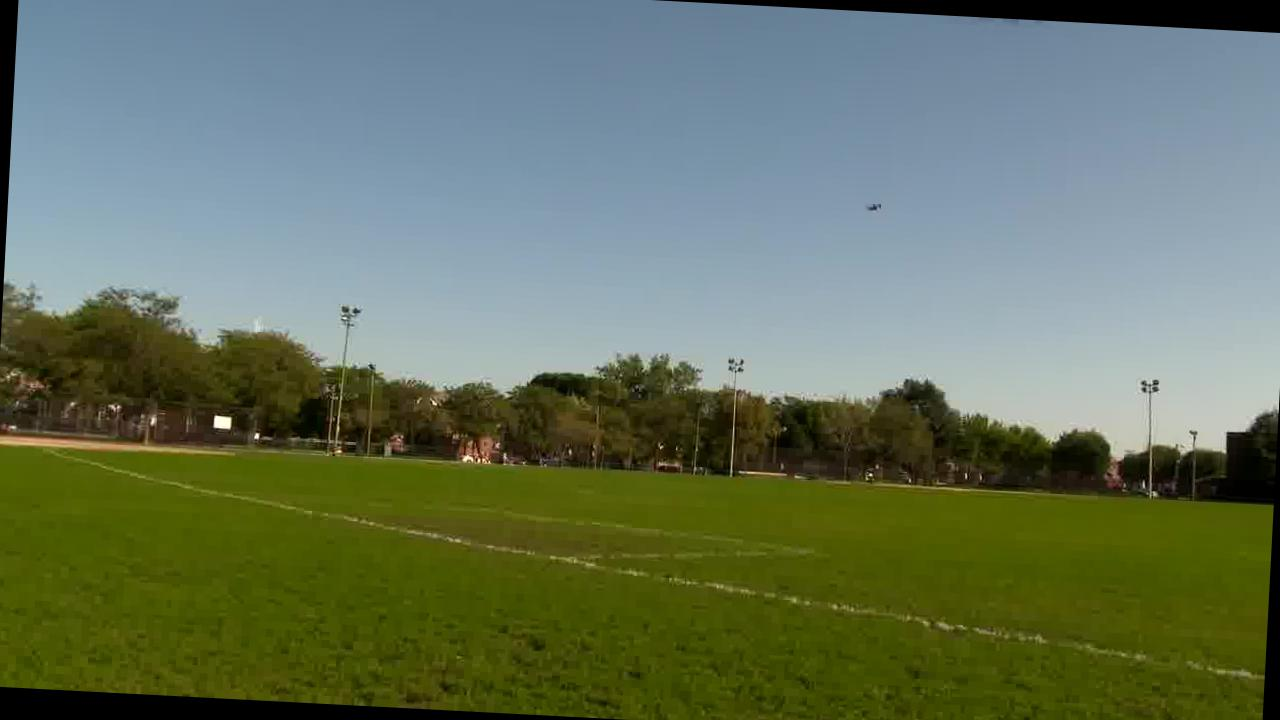drone: (848, 198, 902, 221)
